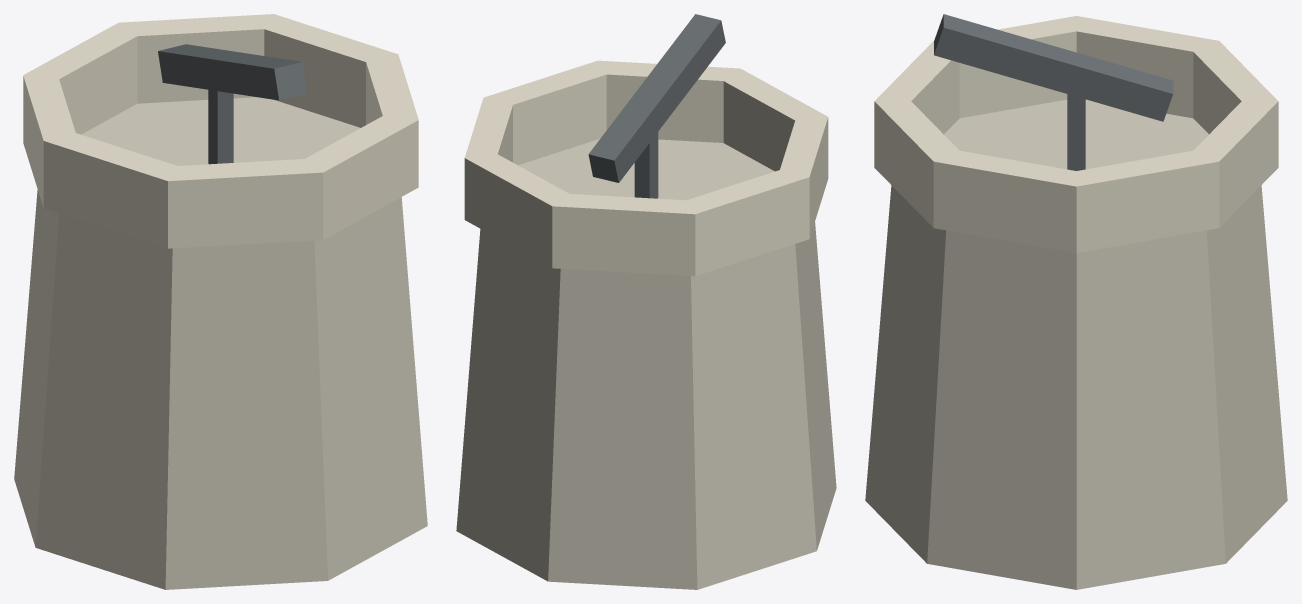
File: observatory.glb
3 views of the same model, side by side, from view 1: azimuth 30°, elevation 25°; view 2: azimuth 150°, elevation 25°; view 3: azimuth 270°, elevation 25° (orthographic). The views are drawn at different scales.
Visible parts, largest first — view 1: observatory; view 2: observatory; view 3: observatory.
Part boxes in pixels (box(x1,y1,x2,y2)): observatory: box(14, 14, 427, 589); observatory: box(456, 14, 836, 589); observatory: box(865, 14, 1287, 589).
Size of the model in its own units: 4.6 by 5.77 by 4.6.
